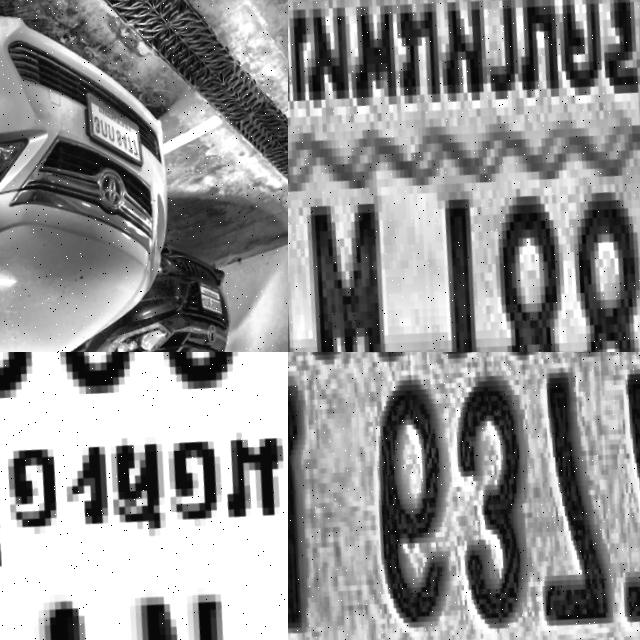license-plate: (288, 0, 640, 352), (288, 352, 640, 640), (0, 352, 288, 640), (81, 75, 153, 170), (201, 270, 232, 312)
